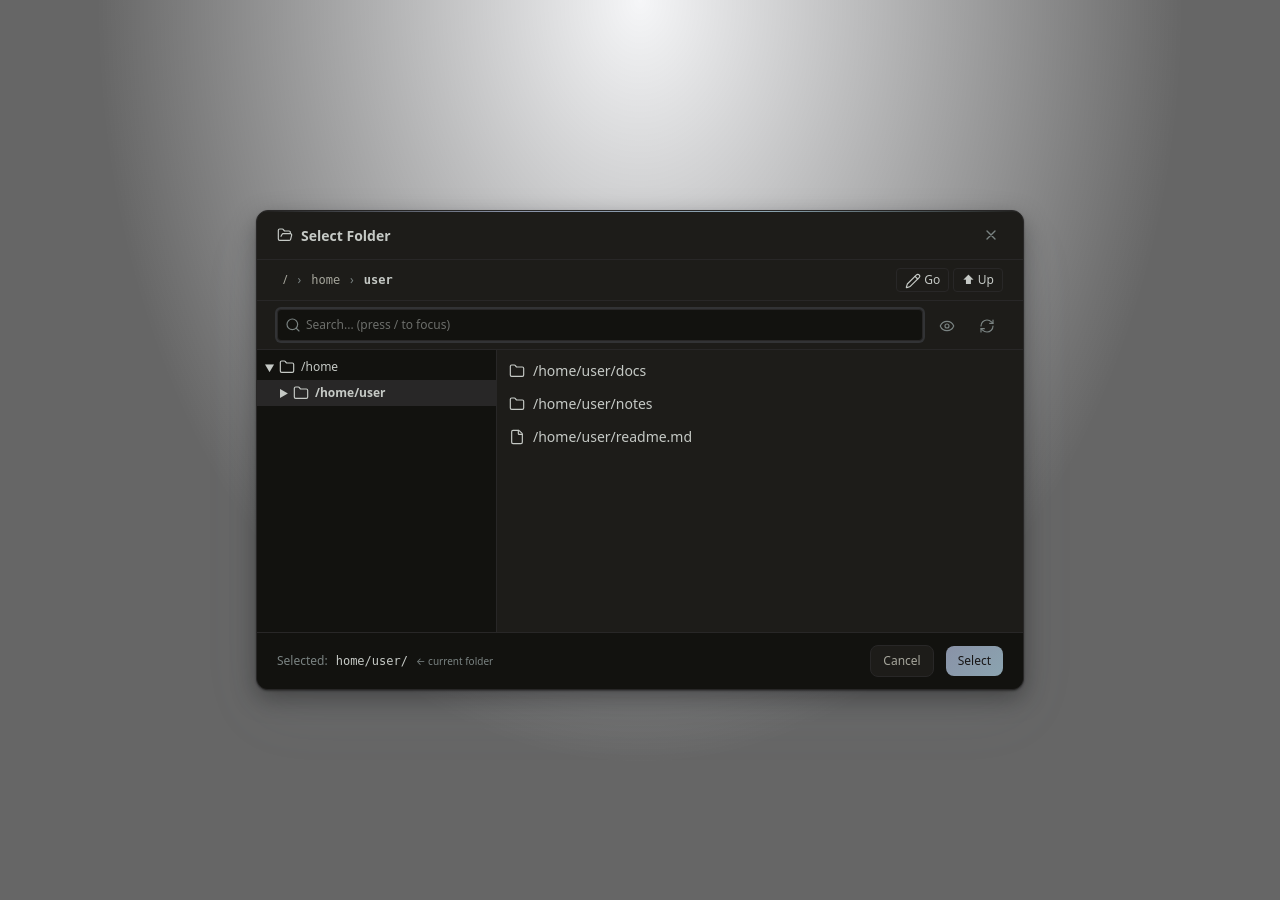
FilePickerDialog — address bar (type a path) › clicking the ✏️ Go button enters edit mode and shows the path input
The width and height of the screenshot is (1280, 900).
Click the button with test id "file-picker-path-edit" at (923, 280), box [896,268,949,292]
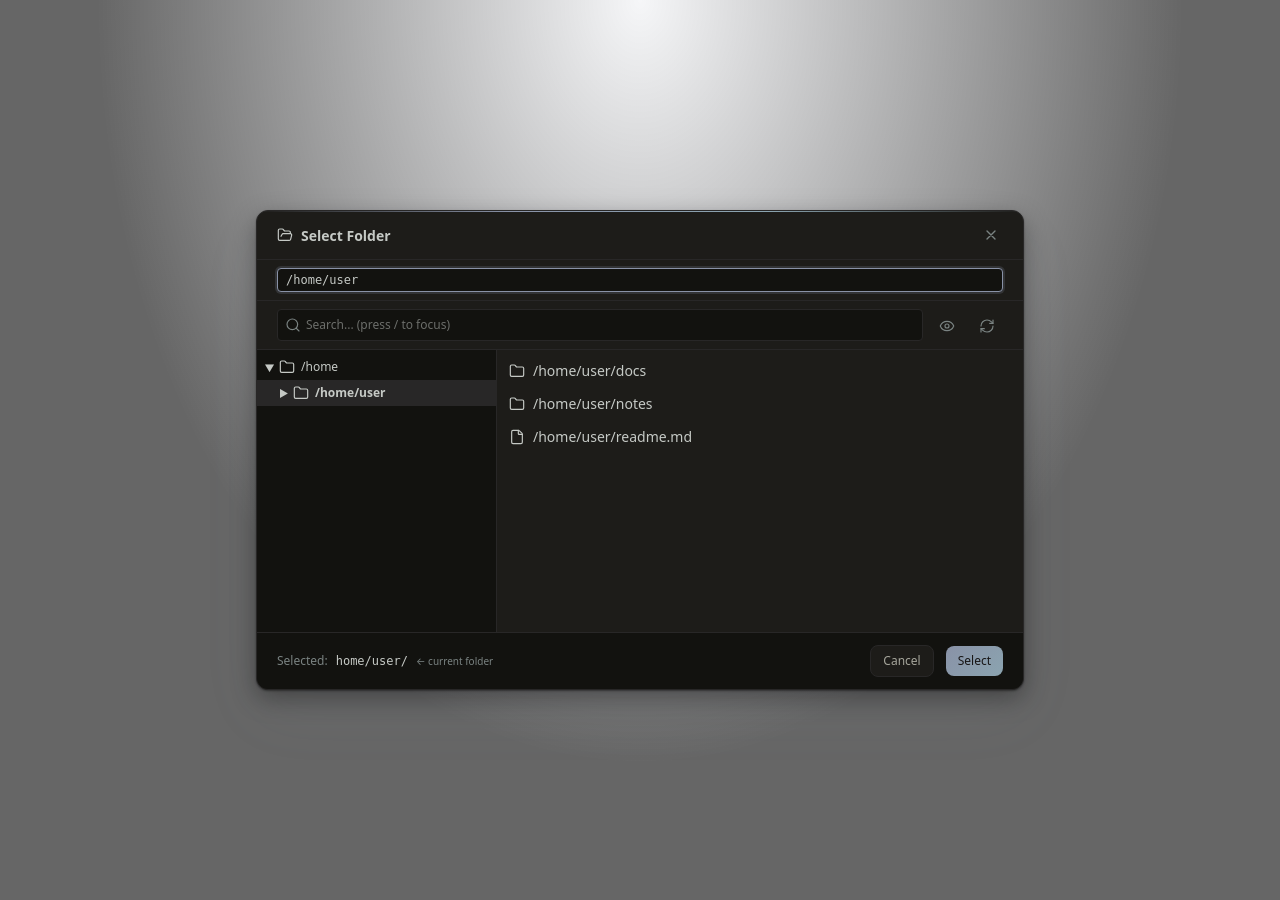
Expected: the field with test id "file-picker-path-input" holds "/home/user", [277,268,1003,292]
Expected: the button with test id "file-picker-crumb-0" is gone
